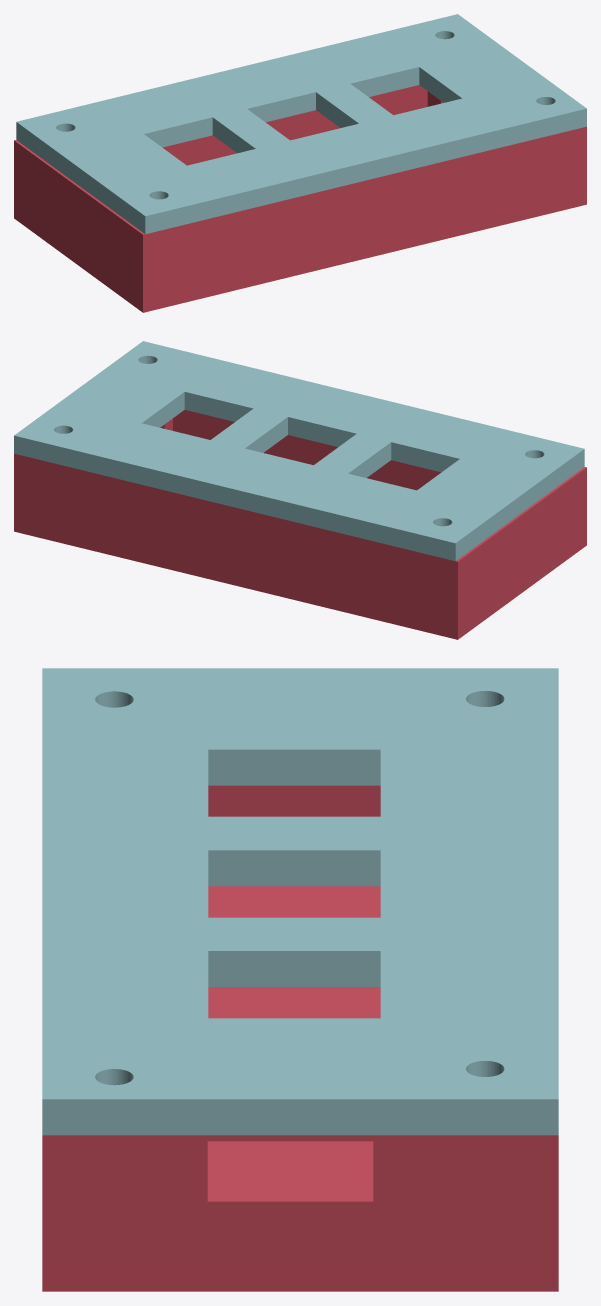
The model's file is Hackpad 3D design.glb.
The picture shows the model from 3 angles, top to bottom: view 1: azimuth 30°, elevation 25°; view 2: azimuth 150°, elevation 25°; view 3: azimuth 270°, elevation 25°; orthographic projection. The views are drawn at different scales.
Visible parts, largest first — view 1: Mesh_Mesh_head_geo.001_lambert2SG.001; view 2: Mesh_Mesh_head_geo.001_lambert2SG.001; view 3: Mesh_Mesh_head_geo.001_lambert2SG.001.
Boxes of the visible parts, bbox=[...] form: Mesh_Mesh_head_geo.001_lambert2SG.001: bbox=[14, 14, 586, 312]; Mesh_Mesh_head_geo.001_lambert2SG.001: bbox=[14, 341, 586, 639]; Mesh_Mesh_head_geo.001_lambert2SG.001: bbox=[42, 668, 558, 1291].
Size of the model in its own units: 0.0774 by 0.016 by 0.039.
